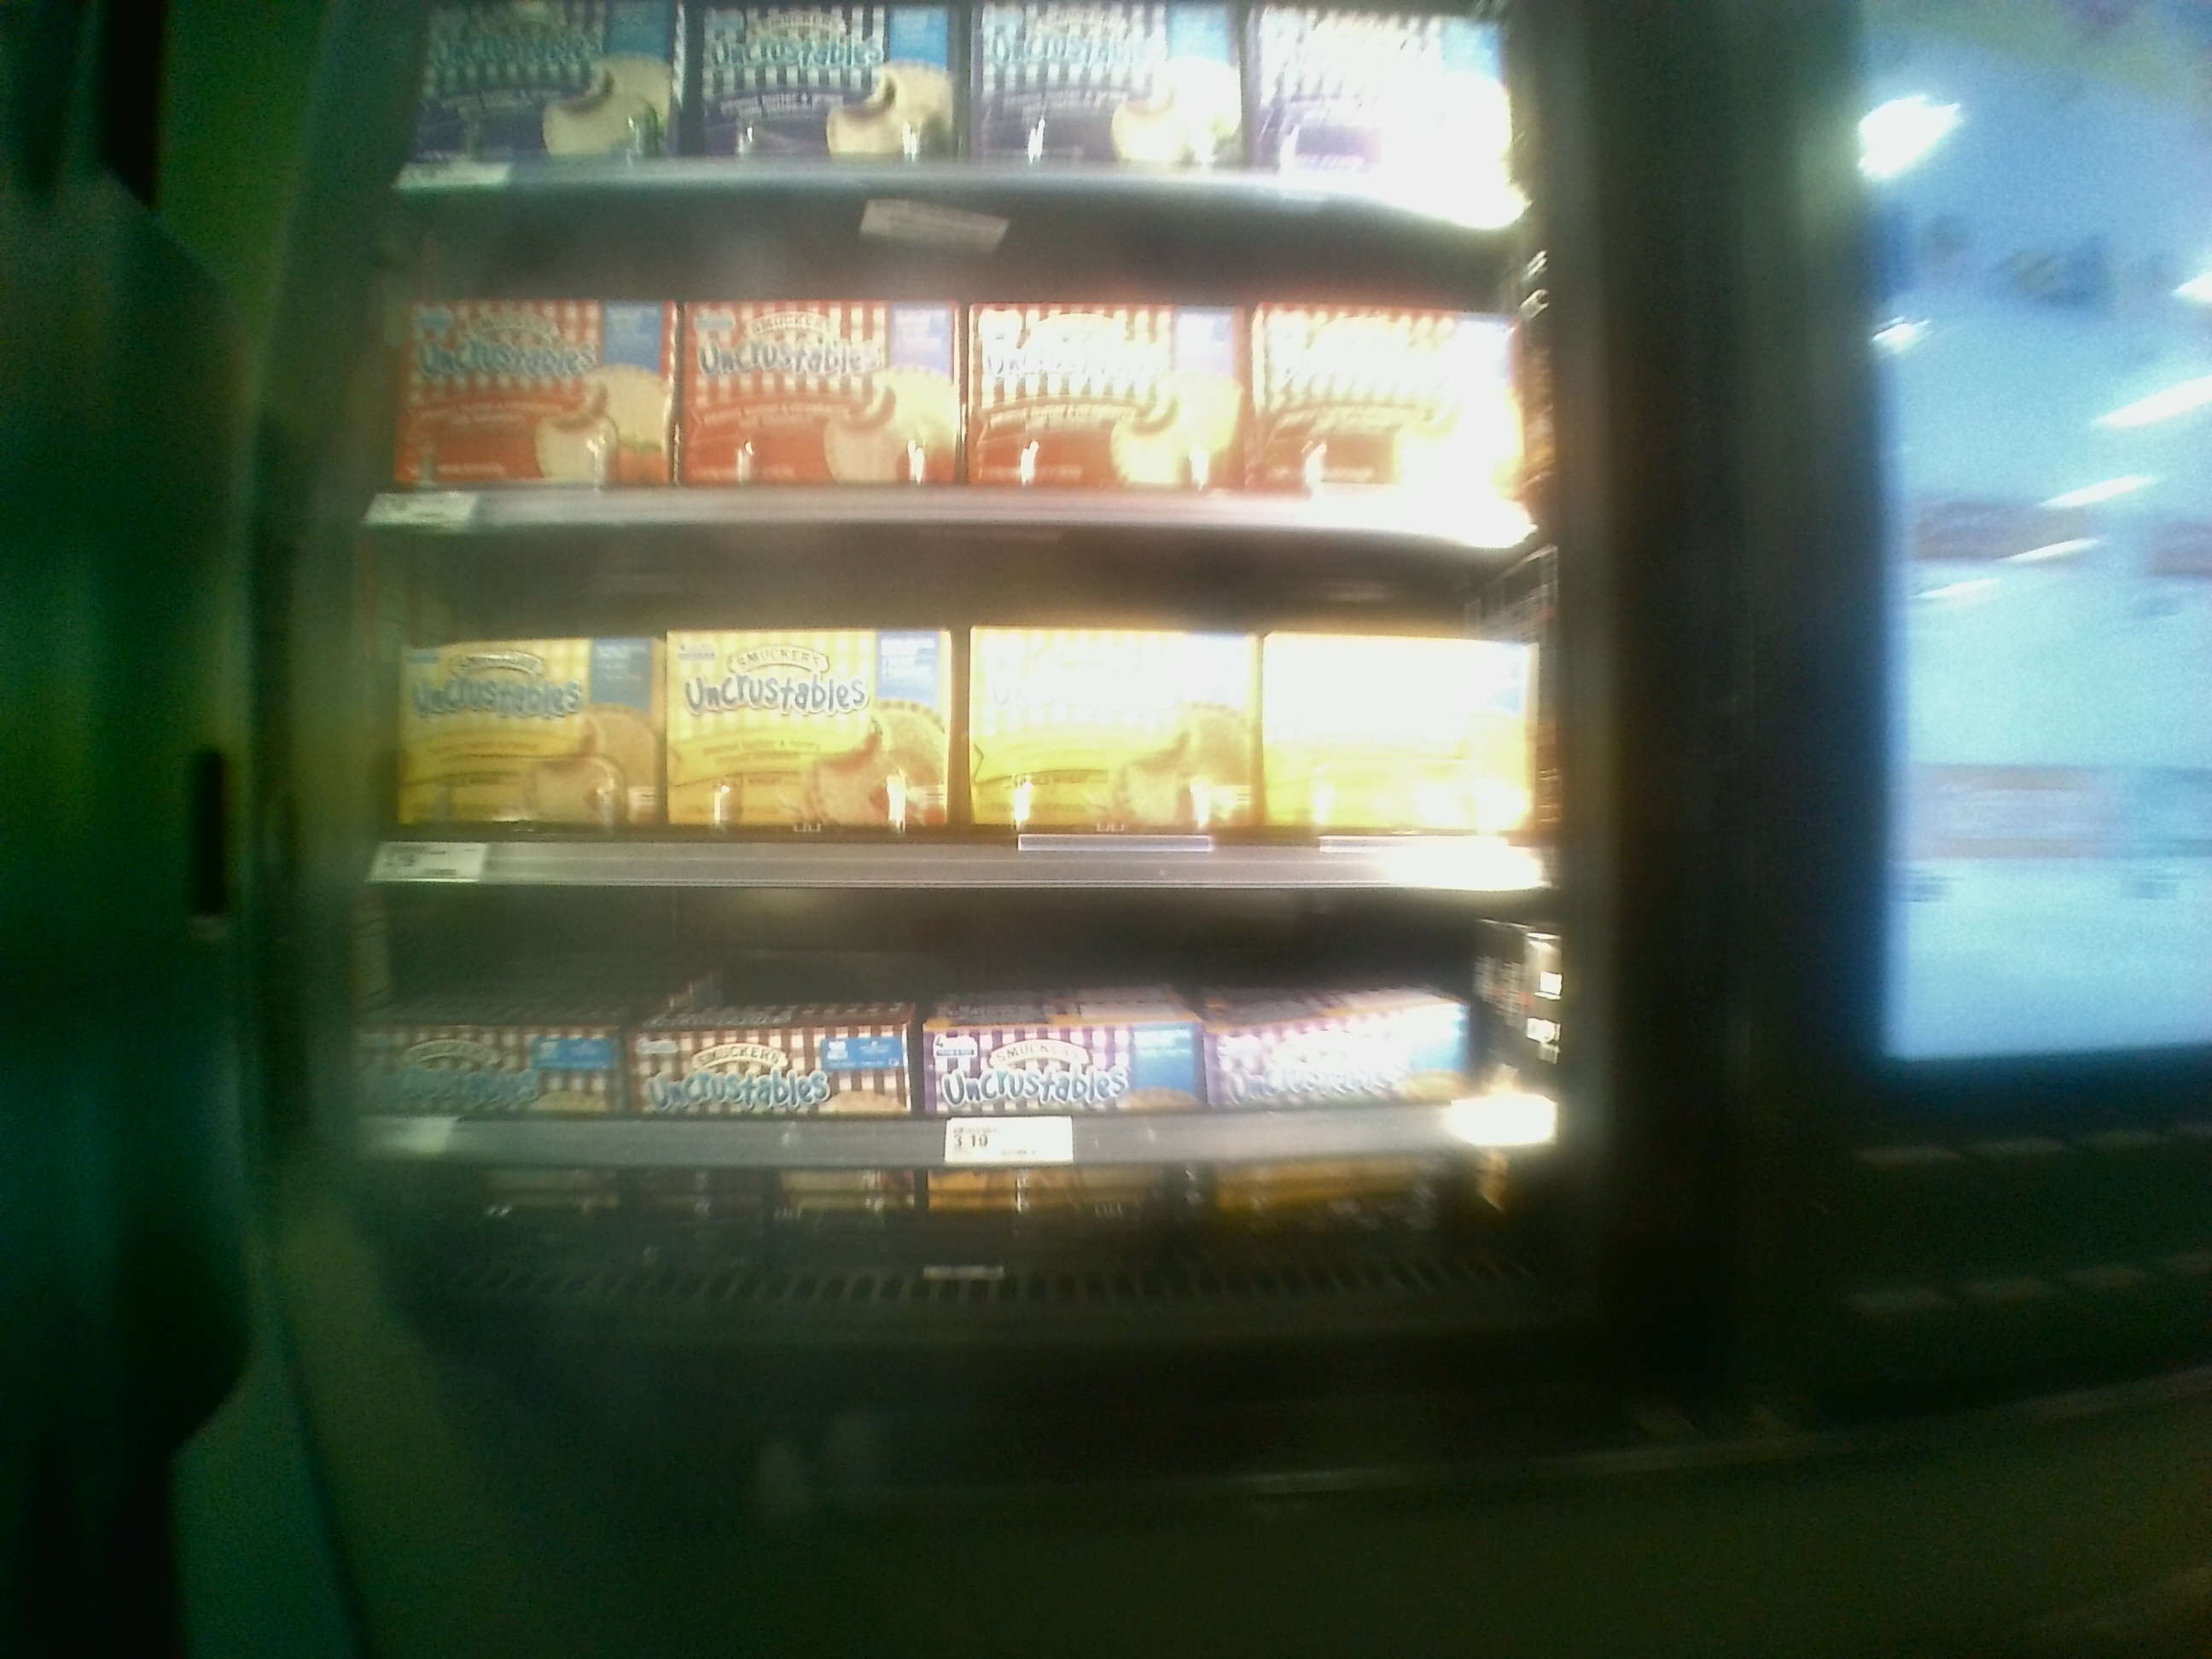shelf: (312, 859, 1578, 1330), (327, 504, 1536, 882), (340, 186, 1517, 535)
